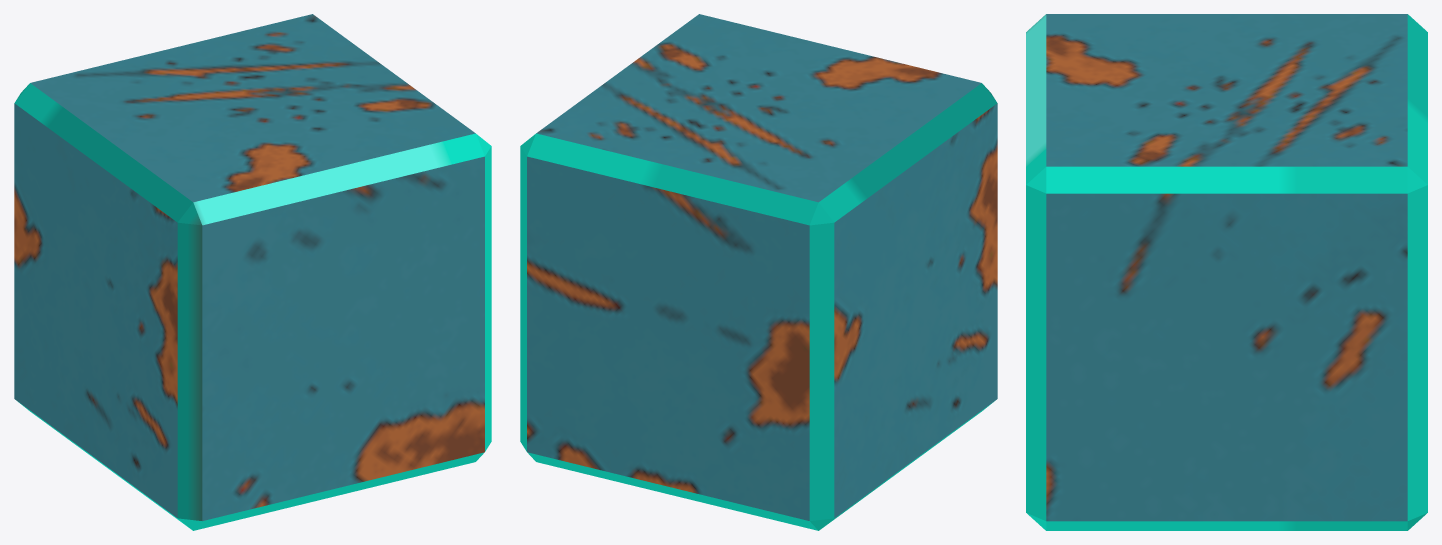
File: CUBE_OPAQUE.glb
3 renders of one model, left to right at view 1: azimuth 30°, elevation 25°; view 2: azimuth 150°, elevation 25°; view 3: azimuth 270°, elevation 25°, orthographic. The views are drawn at different scales.
Visible parts, largest first — view 1: Cube.026; view 2: Cube.026; view 3: Cube.026.
Boxes of the visible parts, x1,y1,x2,y2 form: Cube.026: (14,14,491,530); Cube.026: (520,14,997,530); Cube.026: (1026,14,1427,530).
Size of the model in its own units: 2 by 2 by 2.
Materials: 2 (2 with a texture image).
